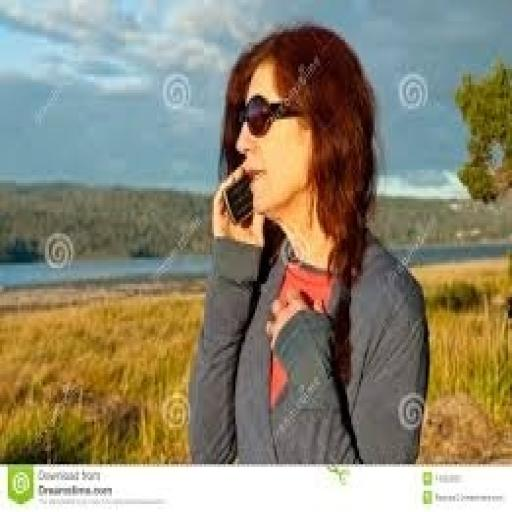calling: (184, 21, 430, 464)
